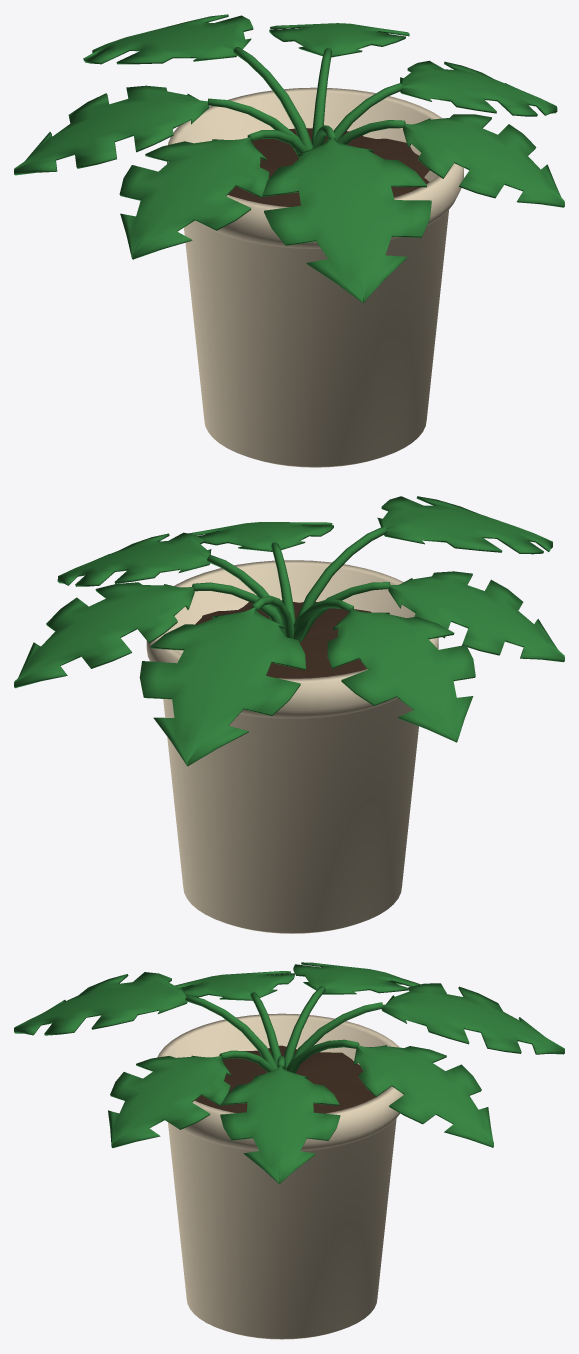
File: living-plantmonstera.glb
3 renders of one model, top to bottom at view 1: azimuth 30°, elevation 25°; view 2: azimuth 150°, elevation 25°; view 3: azimuth 270°, elevation 25°, orthographic. The views are drawn at different scales.
Parts seen in each view (by area): view 1: PlantMonstera__Leaves, PlantMonstera__Pot, PlantMonstera__Soil; view 2: PlantMonstera__Leaves, PlantMonstera__Pot, PlantMonstera__Soil; view 3: PlantMonstera__Pot, PlantMonstera__Leaves, PlantMonstera__Soil.
Part boxes in pixels (x1,y1,x2,y2): PlantMonstera__Leaves: (14,14,564,303); PlantMonstera__Pot: (167,87,463,467); PlantMonstera__Soil: (228,128,429,206); PlantMonstera__Leaves: (14,496,564,766); PlantMonstera__Pot: (146,560,438,933); PlantMonstera__Soil: (195,595,371,678); PlantMonstera__Pot: (157,1013,403,1339); PlantMonstera__Leaves: (14,962,564,1184); PlantMonstera__Soil: (195,1045,375,1113).
Bounding box in the file's own units: 65.3 × 44.66 × 76.56.
